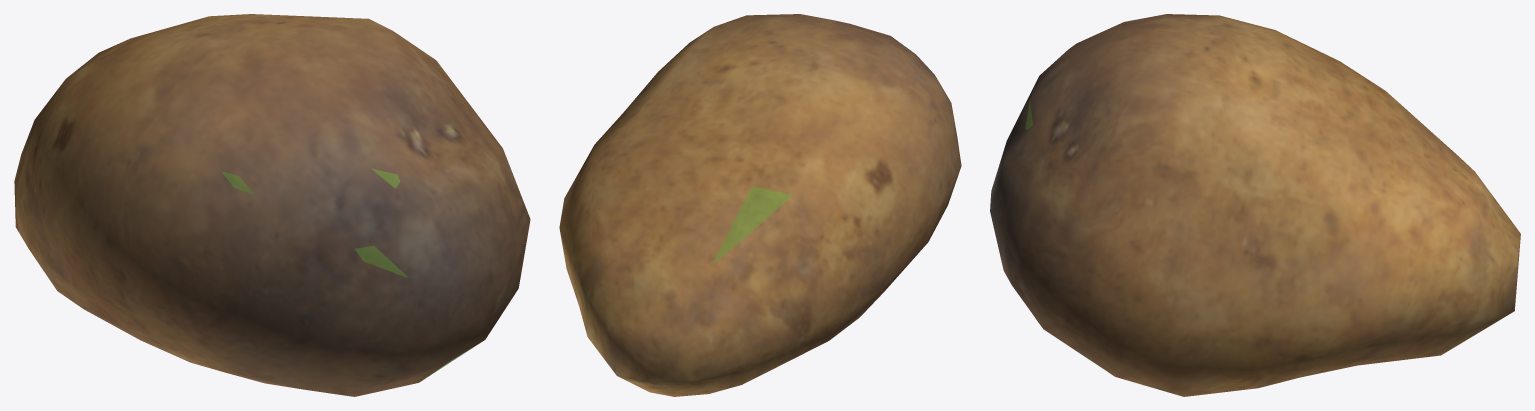
File: pg_Potato_04.fbx
3 views of the same model, side by side, from view 1: azimuth 30°, elevation 25°; view 2: azimuth 150°, elevation 25°; view 3: azimuth 270°, elevation 25° (orthographic). The views are drawn at different scales.
Parts seen in each view (by area): view 1: pg_Potato_04_a_LOD0, pg_Potato_04_a_col; view 2: pg_Potato_04_a_LOD0, pg_Potato_04_a_col; view 3: pg_Potato_04_a_LOD0.
Boxes of the visible parts, x1,y1,x2,y2 form: pg_Potato_04_a_LOD0: (14, 14, 530, 396); pg_Potato_04_a_col: (221, 168, 479, 380); pg_Potato_04_a_LOD0: (559, 14, 961, 396); pg_Potato_04_a_col: (712, 186, 792, 264); pg_Potato_04_a_LOD0: (990, 14, 1520, 396).
Size of what is drawn, in the model's own units: 8 by 6.96 by 10.61.
Materials: 2 (1 with a texture image).
